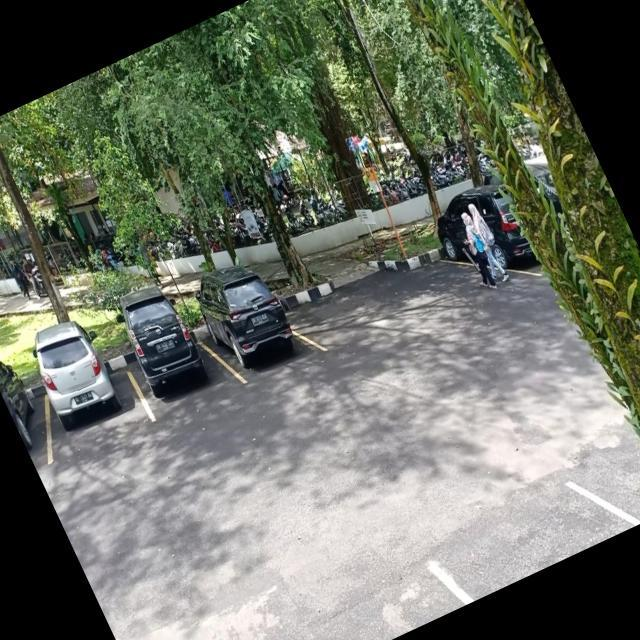occupied: (20, 328, 154, 462), (194, 270, 316, 392), (119, 311, 233, 420)
